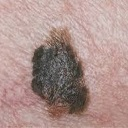Melanoma: (30, 39, 90, 114)
